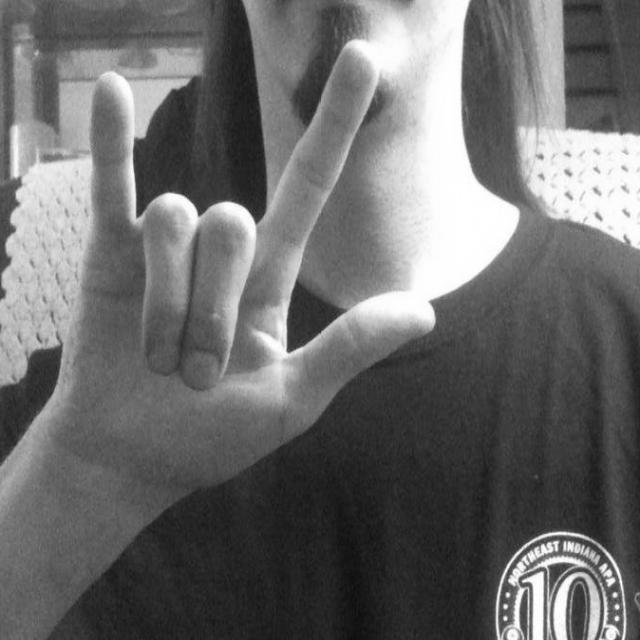i love you: (36, 29, 442, 527)
